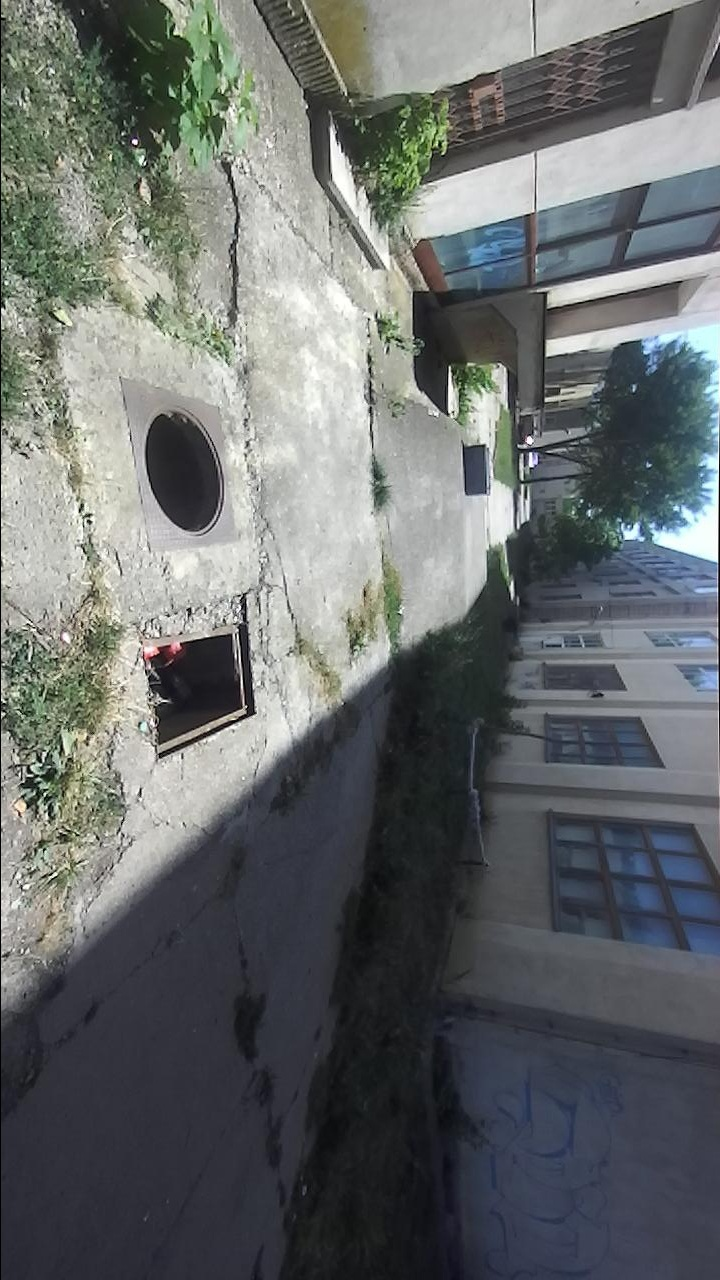drain: (136, 616, 264, 767), (139, 403, 230, 540)
